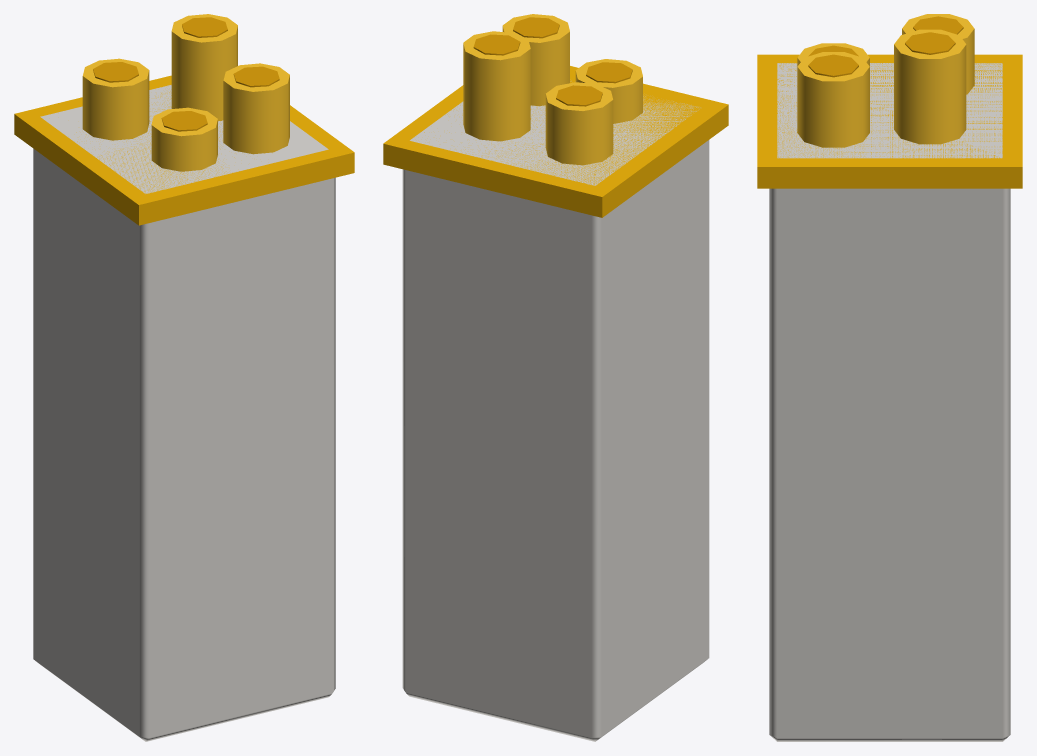
Rendered from station_processing_ausstattung_3_1.glb.
The picture shows the model from 3 angles, left to right: view 1: azimuth 30°, elevation 25°; view 2: azimuth 150°, elevation 25°; view 3: azimuth 270°, elevation 25°; orthographic projection. The views are drawn at different scales.
Visible parts, largest first — view 1: station_processing_ausstattung_3_1; view 2: station_processing_ausstattung_3_1; view 3: station_processing_ausstattung_3_1.
Boxes of the visible parts, bbox=[...] form: station_processing_ausstattung_3_1: bbox=[14, 14, 354, 741]; station_processing_ausstattung_3_1: bbox=[383, 14, 728, 741]; station_processing_ausstattung_3_1: bbox=[757, 14, 1022, 741].
Size of the model in its own units: 0.33 by 0.921 by 0.33.
